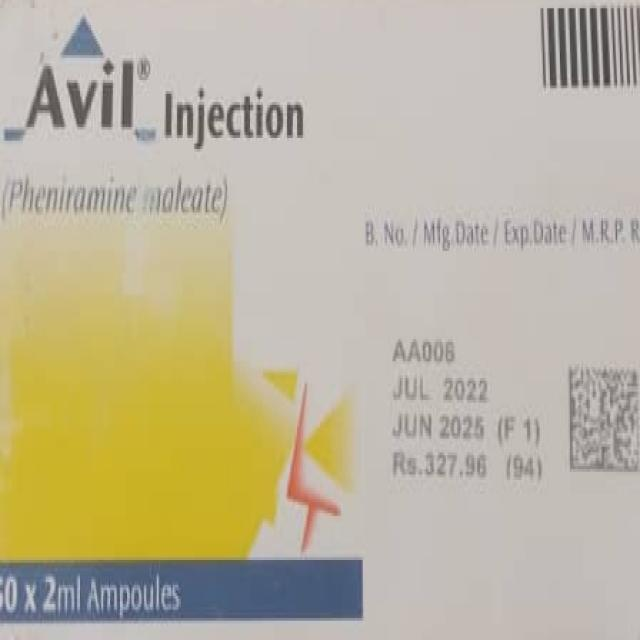drug-name: (26, 59, 138, 137)
